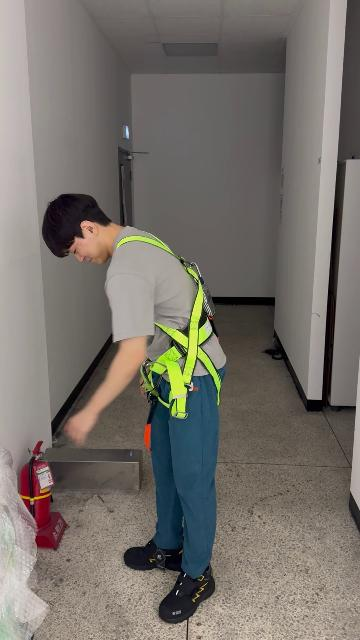helmet_not_worn: (42, 194, 115, 259)
shoe_worn: (158, 565, 215, 623), (124, 537, 183, 570)
vest_worn: (115, 235, 222, 408)
